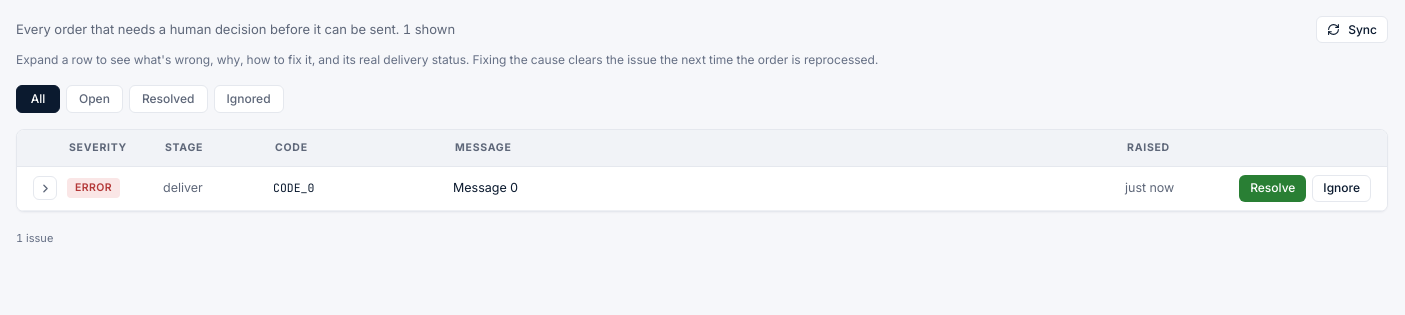
Test case: exceptions — a refused mutation is visible and announced › shows the server's own sentence when Ignore is refused
This screenshot has width=1405, height=315.
Click the button "Ignore" at (1342, 188), box [1312,175,1371,202]
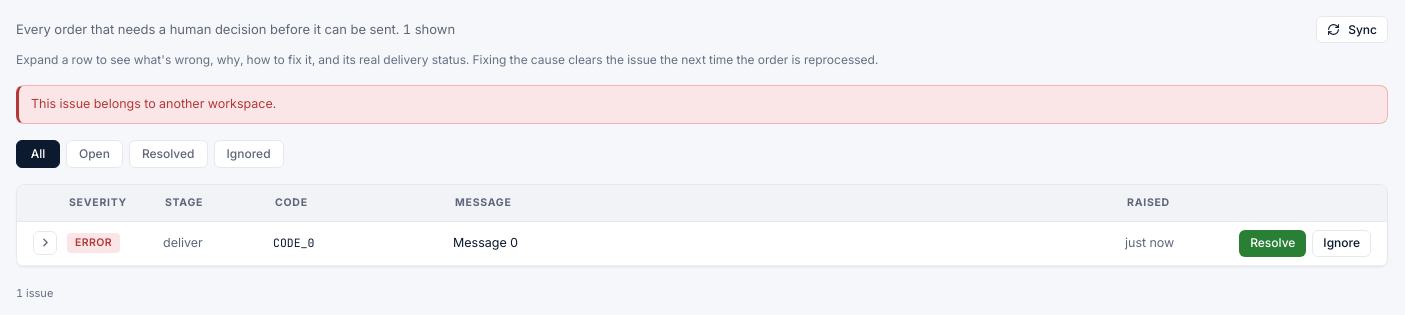
Now the message reads "This issue belongs to another workspace.", box [31,96,276,111]
